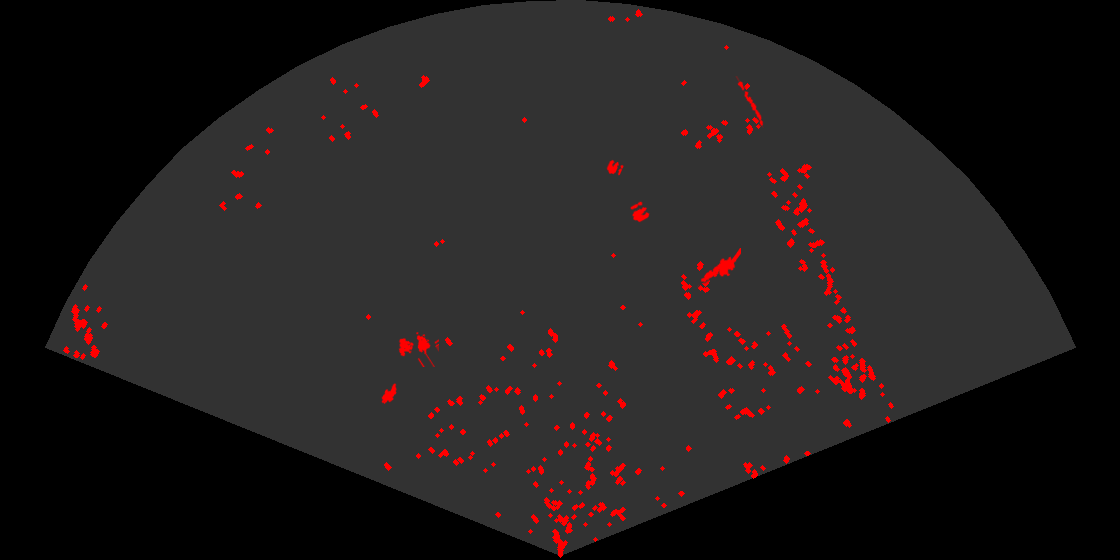AUV: (380, 382, 398, 406)
ball: (629, 200, 651, 224), (605, 158, 625, 177)
cage: (397, 330, 439, 367)
chain: (734, 76, 765, 128)
frogman: (697, 248, 741, 289)
